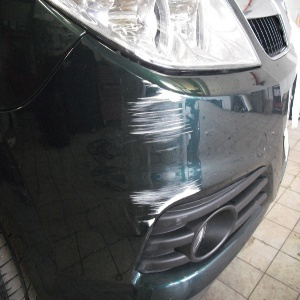bumper_scratch: (102, 76, 217, 235)
